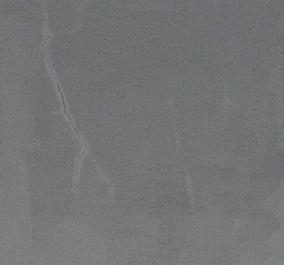fissura: (26, 13, 131, 215)
